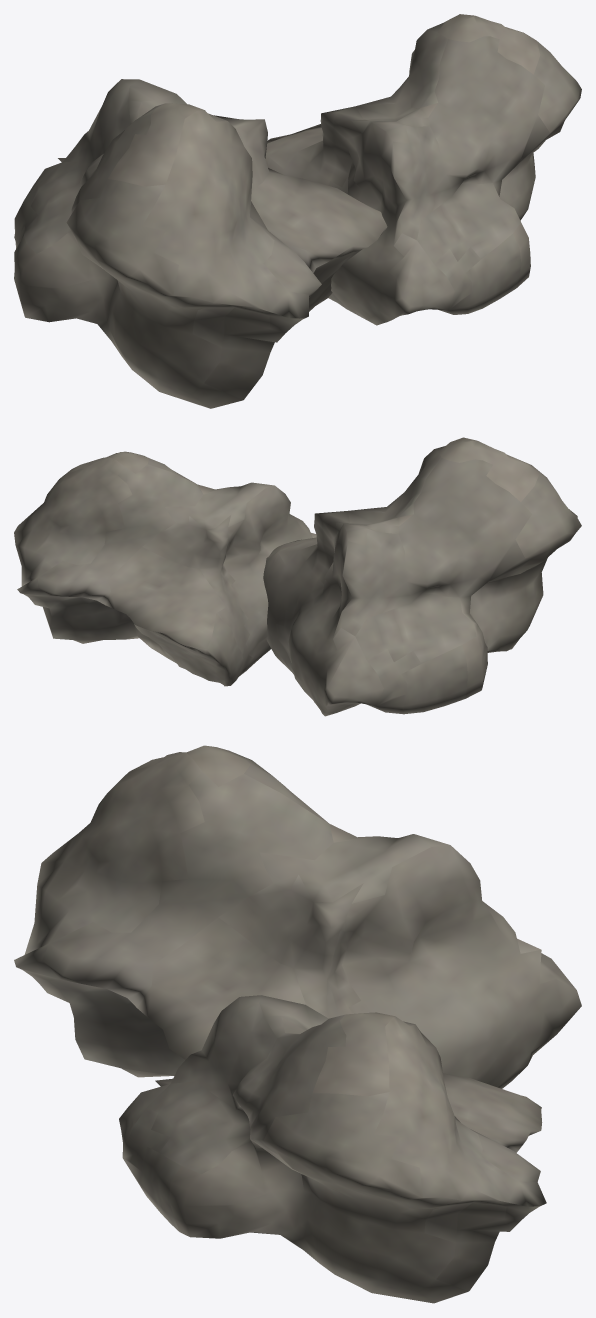
Rendered from corealm_sunder_ledge.glb.
3 renders of one model, top to bottom at view 1: azimuth 30°, elevation 25°; view 2: azimuth 150°, elevation 25°; view 3: azimuth 270°, elevation 25°, orthographic. The views are drawn at different scales.
Visible parts, largest first — view 1: corealm_sunder_ledge; view 2: corealm_sunder_ledge; view 3: corealm_sunder_ledge.
Part boxes in pixels (x1,y1,x2,y2): corealm_sunder_ledge: [14, 14, 581, 408]; corealm_sunder_ledge: [14, 437, 581, 716]; corealm_sunder_ledge: [14, 745, 581, 1303].
Bounding box in the file's own units: 9.32 × 4.45 × 6.74.
Materials: 1 (1 with a texture image).
